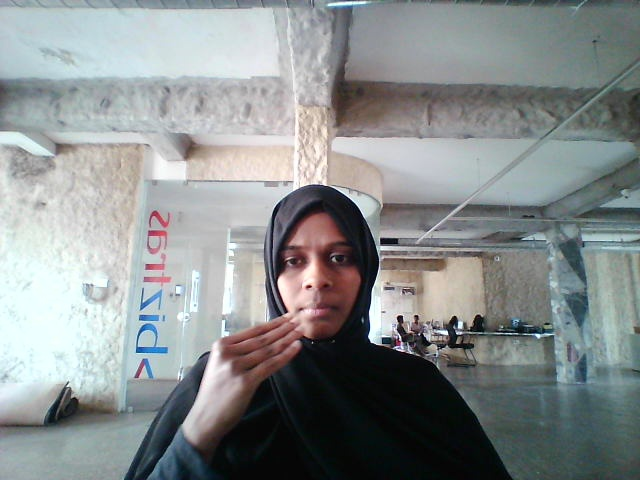THANKS: (186, 308, 323, 461)
